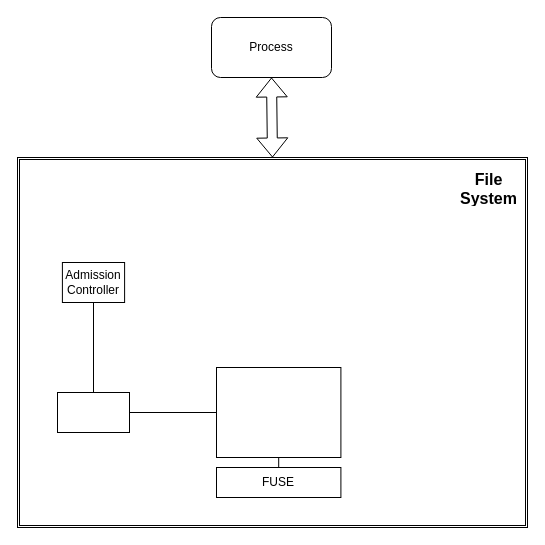
The diagram is 545 pixels wide and 545 high, and some of its shapes have lost their labels. The shapes that lost their labels are listed below. From the top down, each one's centre as x and y in pixels, then its label:
At pixel 93 412: "Scheduler".
At pixel 278 412: "VFS".
